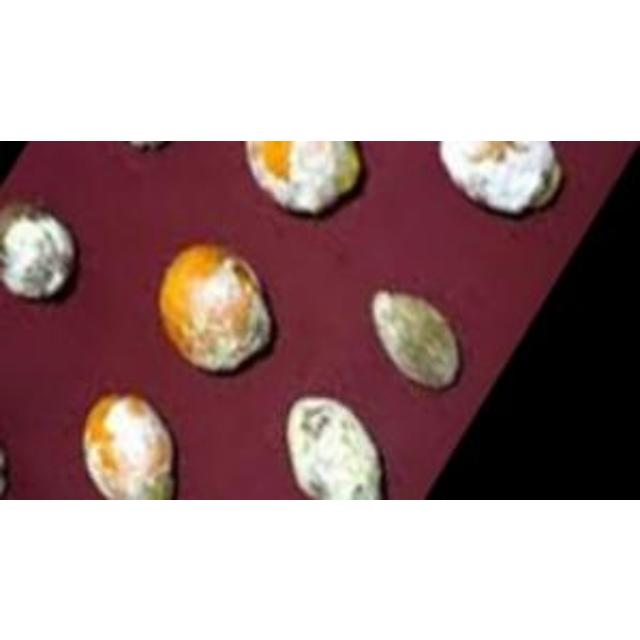damaged: (158, 240, 272, 372), (286, 394, 386, 498), (82, 392, 178, 498), (370, 287, 460, 388), (438, 142, 560, 214), (247, 140, 363, 213), (0, 200, 76, 300)
